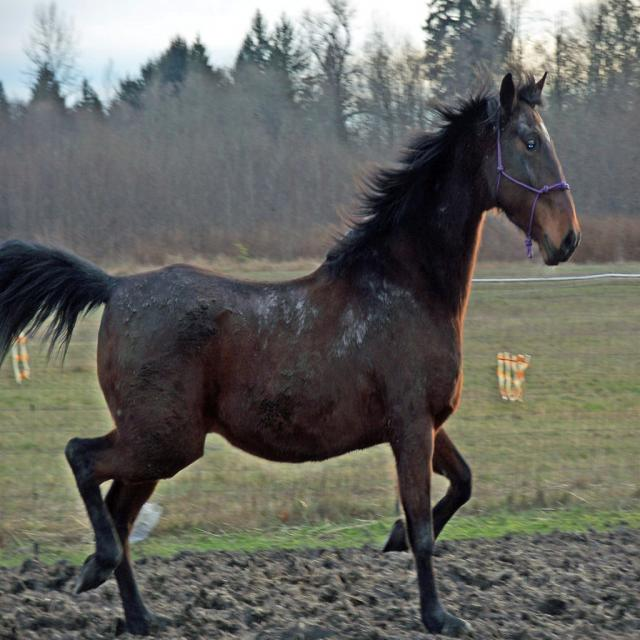Horse: (0, 56, 582, 640)
